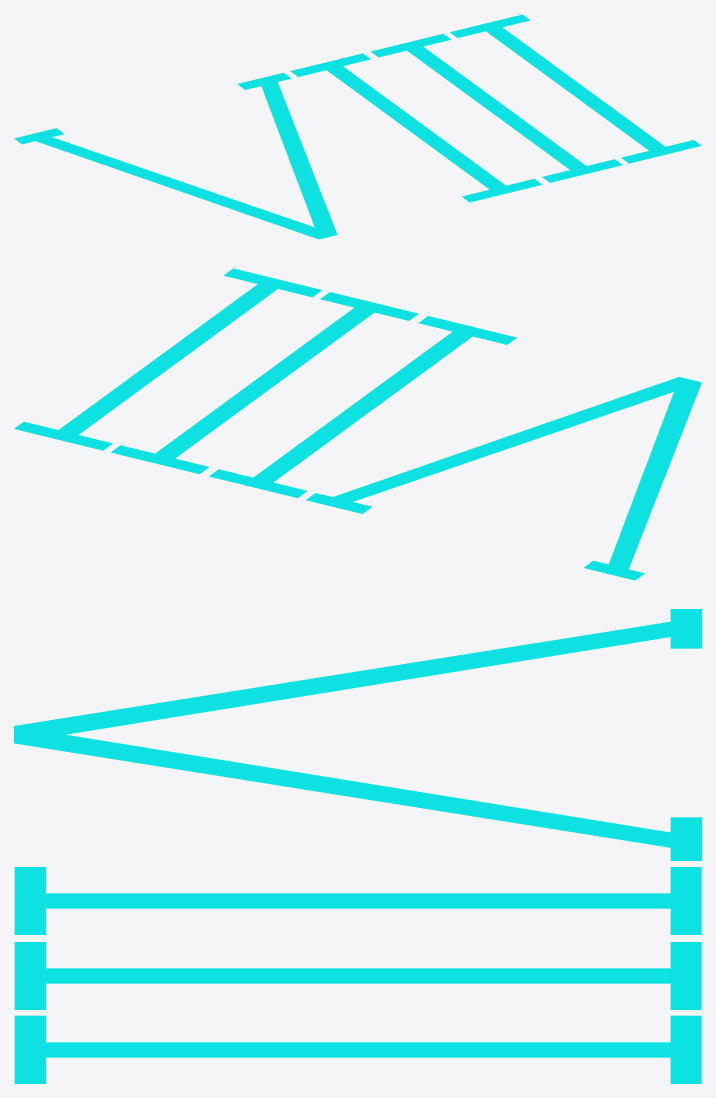
Rendered from eight.fbx.
The picture shows the model from 3 angles, top to bottom: view 1: azimuth 30°, elevation 25°; view 2: azimuth 150°, elevation 25°; view 3: azimuth 270°, elevation 25°; orthographic projection. The views are drawn at different scales.
Parts seen in each view (by area): view 1: eight; view 2: eight; view 3: eight.
Part boxes in pixels (bbox=[...]): eight: bbox=[14, 14, 701, 239]; eight: bbox=[14, 268, 701, 580]; eight: bbox=[14, 609, 701, 1083].
Bounding box in the file's own units: 1.8 × 3.37e-07 × 1.1.
